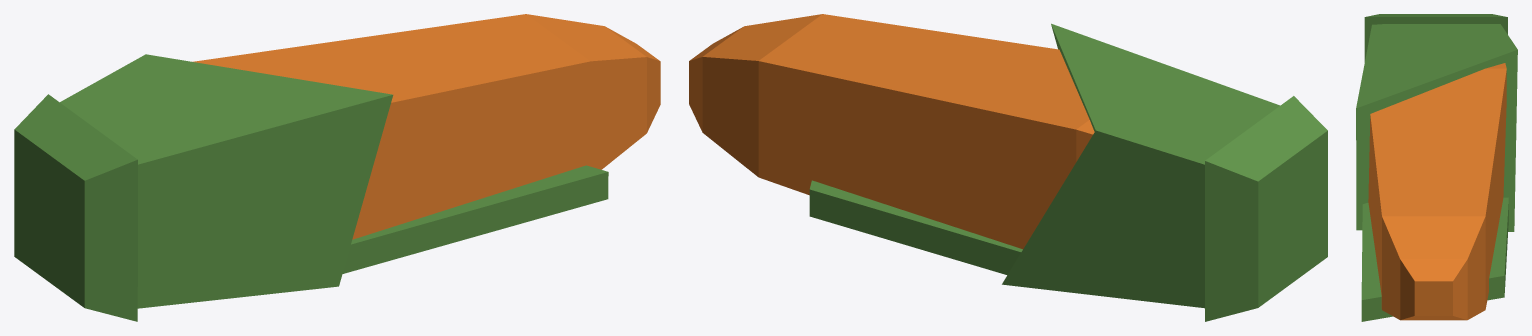
The model's file is cornWithLeafs.fbx.
3 views of the same model, side by side, from view 1: azimuth 30°, elevation 25°; view 2: azimuth 150°, elevation 25°; view 3: azimuth 270°, elevation 25° (orthographic). The views are drawn at different scales.
Parts seen in each view (by area): view 1: cornWithLeafs; view 2: cornWithLeafs; view 3: cornWithLeafs.
Boxes of the visible parts, x1,y1,x2,y2 form: cornWithLeafs: (14,14,660,321); cornWithLeafs: (689,14,1327,321); cornWithLeafs: (1356,14,1517,321).
Bounding box in the file's own units: 16.93 × 4.9 × 4.96.
1 material, 1 textured.
